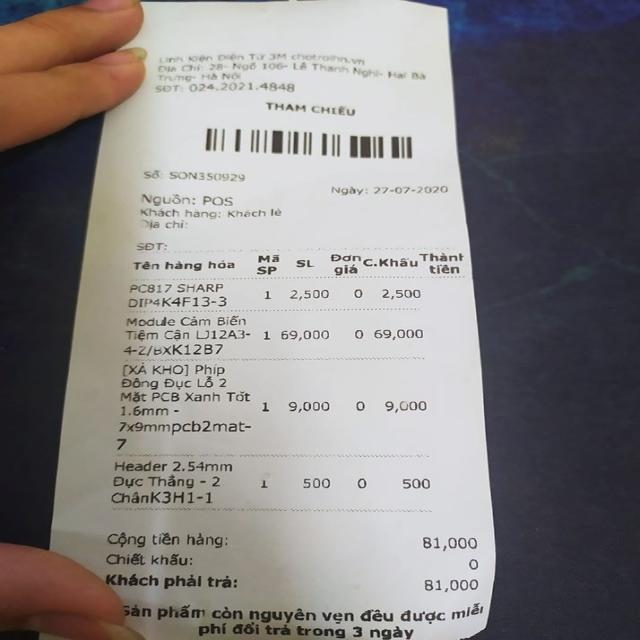Date: (374, 185, 453, 198)
Store_Name: (155, 49, 369, 67)
amount_number: (416, 576, 483, 594)
label_total: (99, 570, 237, 595)
